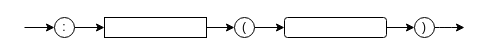
The diagram is 490 pixels wide and 55 high, and some of its shapes have lost their labels. Each missing label, with the box of its shape:
extract: (104, 16, 206, 38)
regexp: (284, 16, 386, 38)
